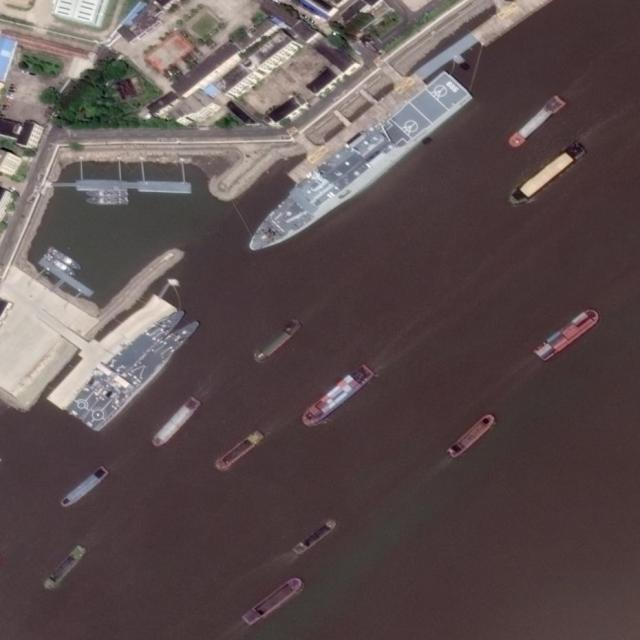Cargo: (504, 141, 586, 211), (504, 94, 566, 151), (242, 573, 306, 628), (149, 393, 204, 454), (444, 411, 499, 460), (211, 427, 266, 475), (251, 317, 305, 365), (41, 542, 89, 593), (60, 465, 111, 511), (290, 516, 340, 557)
Container Ship: (299, 361, 372, 430), (533, 304, 601, 363)
Landing: (240, 63, 471, 276), (64, 300, 186, 423), (80, 314, 202, 432)
Other Warship: (43, 250, 81, 280), (48, 244, 85, 274), (85, 189, 128, 199), (84, 197, 128, 206)
